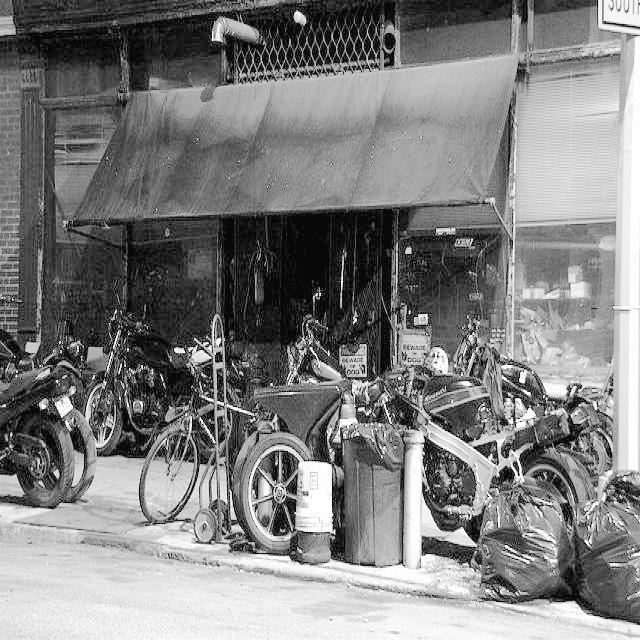Motorcycle: (134, 345, 323, 565), (381, 346, 540, 582), (0, 344, 107, 545)
